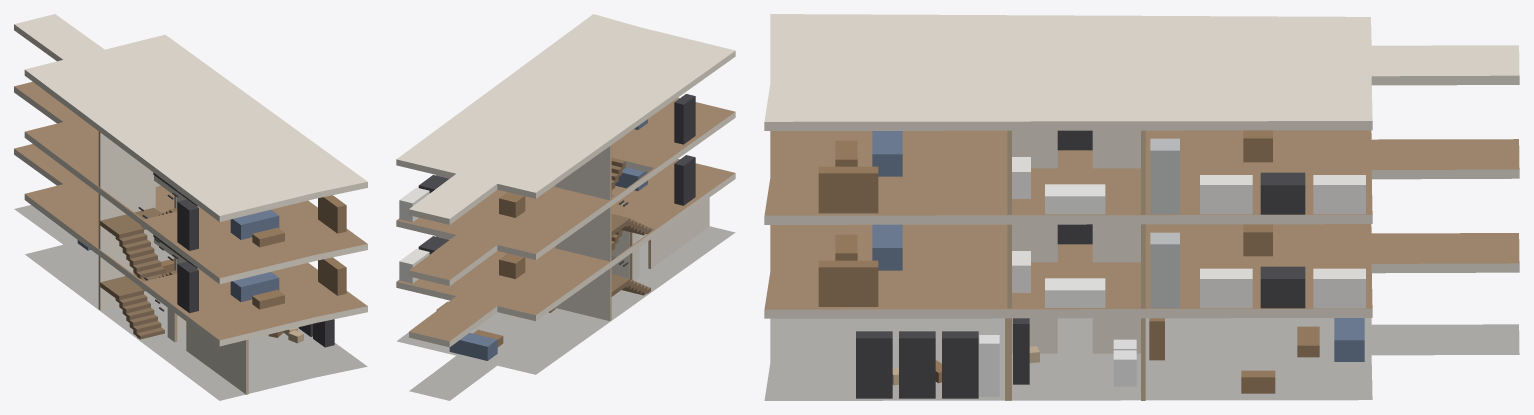
Rendered from interior.glb.
The picture shows the model from 3 angles, left to right: view 1: azimuth 30°, elevation 25°; view 2: azimuth 150°, elevation 25°; view 3: azimuth 270°, elevation 25°; orthographic projection. The views are drawn at different scales.
Parts seen in each view (by area): view 1: slabs, partitions, stair, coarse-s2, coarse-s1, coarse-s0; view 2: slabs, partitions, coarse-s1, coarse-s2, stair, coarse-s0; view 3: slabs, coarse-s1, coarse-s2, coarse-s0, partitions, stair.
Part boxes in pixels (x1=…): slabs: x1=14, y1=14, x2=367, y2=400; partitions: x1=98, y1=131, x2=248, y2=394; stair: x1=100, y1=172, x2=197, y2=339; coarse-s2: x1=177, y1=195, x2=346, y2=250; coarse-s1: x1=177, y1=257, x2=346, y2=313; coarse-s0: x1=77, y1=240, x2=334, y2=347; slabs: x1=396, y1=14, x2=735, y2=400; partitions: x1=555, y1=145, x2=709, y2=320; coarse-s1: x1=399, y1=155, x2=695, y2=283; coarse-s2: x1=399, y1=94, x2=695, y2=222; stair: x1=611, y1=157, x2=650, y2=296; coarse-s0: x1=436, y1=301, x2=555, y2=360; slabs: x1=764, y1=14, x2=1519, y2=400; coarse-s1: x1=818, y1=224, x2=1365, y2=308; coarse-s2: x1=818, y1=130, x2=1365, y2=214; coarse-s0: x1=856, y1=318, x2=1364, y2=398; partitions: x1=1005, y1=130, x2=1145, y2=400; stair: x1=1057, y1=130, x2=1092, y2=244.
Size of the model in its own units: 6.53 by 7.9 by 19.32.
